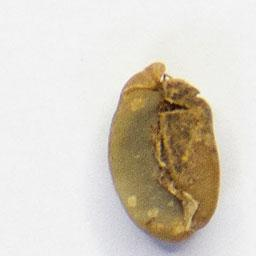defect: (103, 58, 222, 245)
